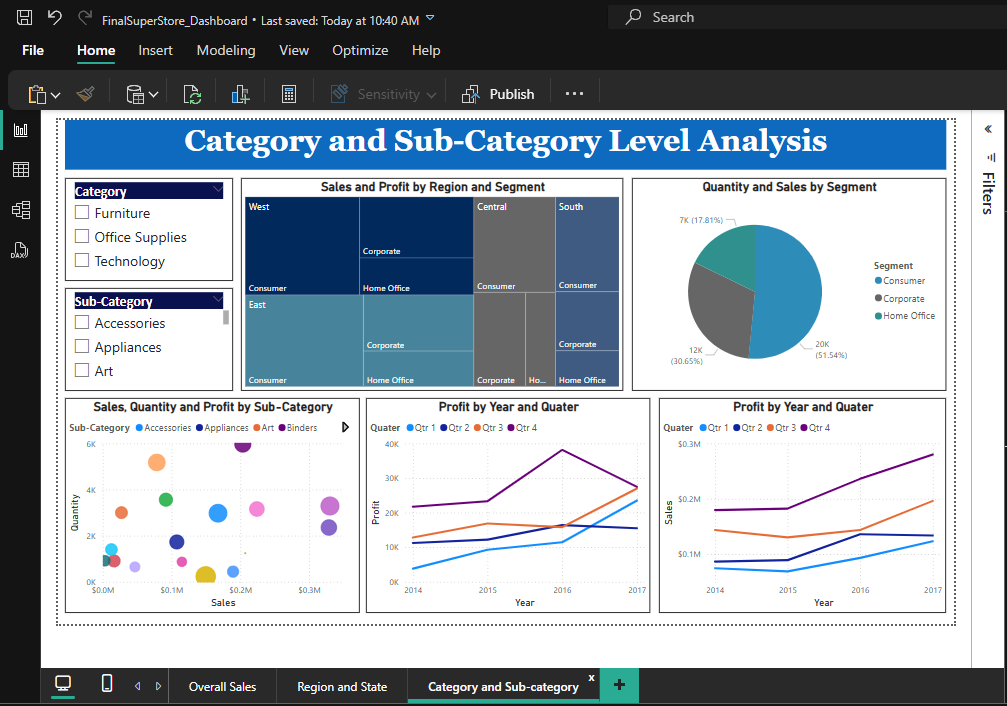

Layout of this report page (visuals, bound fields, positions):
{"tool":"powerbi","page":{"name":"Category and Sub-category","canvas":[1280,720],"ordinal":2},"visuals":[{"type":"textbox","box":[10.3,0,1259,70.5],"z":0},{"type":"slicer","fields":{"Values":["Orders.Category"]},"box":[10,82.9,240,147.1],"z":1000},{"type":"slicer","fields":{"Values":["Orders.Sub-Category"]},"box":[10,240,240,147.1],"z":2000},{"type":"treemap","title":"Sales and Profit by Region and Segment","fields":{"Group":["Orders.Region"],"Details":["Orders.Segment"],"Values":["Sum(Orders.Sales)"]},"box":[261.5,82.6,546.4,304.2],"z":3000},{"type":"pieChart","title":"Quantity and Sales by Segment","fields":{"Category":["Orders.Segment"],"Y":["Sum(Orders.Quantity)"]},"box":[820.3,82.6,448.7,304.2],"z":4000},{"type":"scatterChart","title":"Sales, Quantity and Profit by Sub-Category","fields":{"Series":["Orders.Sub-Category"],"X":["Sum(Orders.Sales)"],"Y":["Sum(Orders.Quantity)"],"Size":["Sum(Orders.Profit)"]},"box":[9.6,397.8,421.2,306.9],"z":5000},{"type":"lineChart","title":"Profit by Year and Quater","fields":{"Category":["Orders.Year"],"Series":["Orders.Quater"],"Y":["Sum(Orders.Profit)"]},"box":[440.4,397.8,406,306.9],"z":6000},{"type":"lineChart","title":"Profit by Year and Quater","fields":{"Category":["Orders.Year"],"Series":["Orders.Quater"],"Y":["Sum(Orders.Sales)"]},"box":[858.8,397.8,410.2,306.9],"z":7000}]}

Visuals, with their boxes on the page's 1280x720 design canvas (x1, y1, x2, y2). These are canvas units, not pixel positions in the 1007x706 screenshot, which may show the page scaled, cropped or inside an application window:
textbox: (left=10, top=0, right=1269, bottom=70)
slicer - Orders.Category: (left=10, top=83, right=250, bottom=230)
slicer - Orders.Sub-Category: (left=10, top=240, right=250, bottom=387)
"Sales and Profit by Region and Segment" treemap: (left=262, top=83, right=808, bottom=387)
"Quantity and Sales by Segment" pieChart: (left=820, top=83, right=1269, bottom=387)
"Sales, Quantity and Profit by Sub-Category" scatterChart: (left=10, top=398, right=431, bottom=705)
"Profit by Year and Quater" lineChart: (left=440, top=398, right=846, bottom=705)
"Profit by Year and Quater" lineChart: (left=859, top=398, right=1269, bottom=705)
